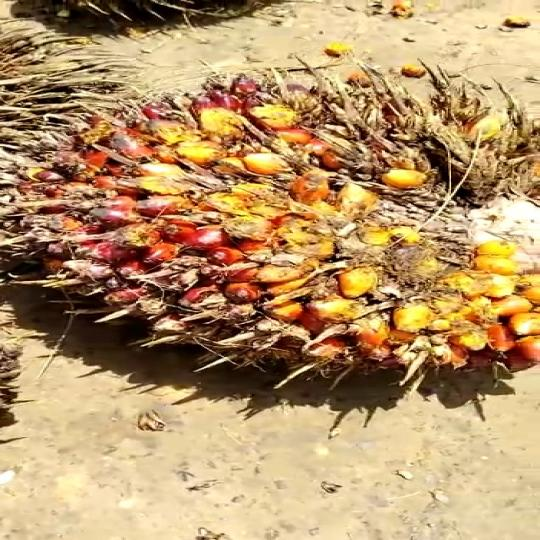masak: (35, 49, 540, 398)
